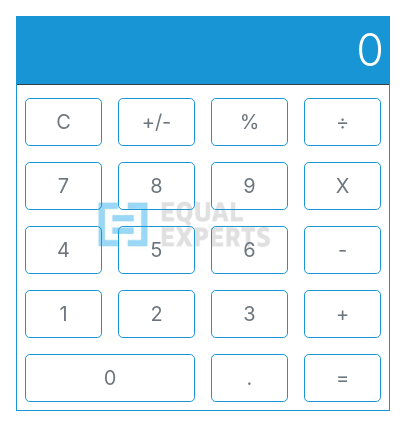
Calculator › calculation › click --> 7 --> 0 --> %, updates display with expected calculated value
Click the button "7" at (64, 186), box x1=25 y1=162 x2=102 y2=210
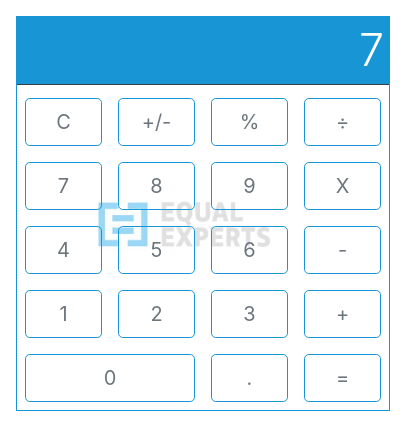
Click the button "0" at (110, 378), box x1=25 y1=354 x2=195 y2=402
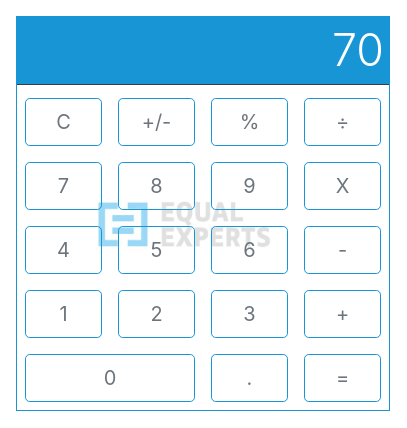
Click the button "%" at (250, 122), box x1=211 y1=98 x2=288 y2=146
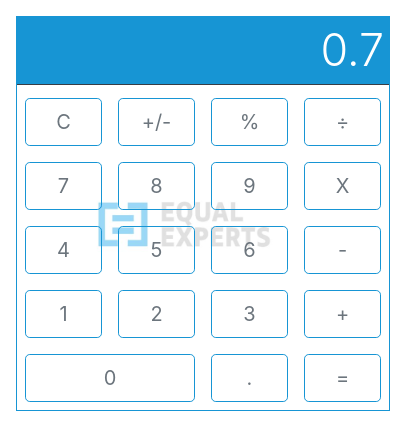
Expected: the text with class "display" reads "0.7", x1=320 y1=23 x2=384 y2=77
